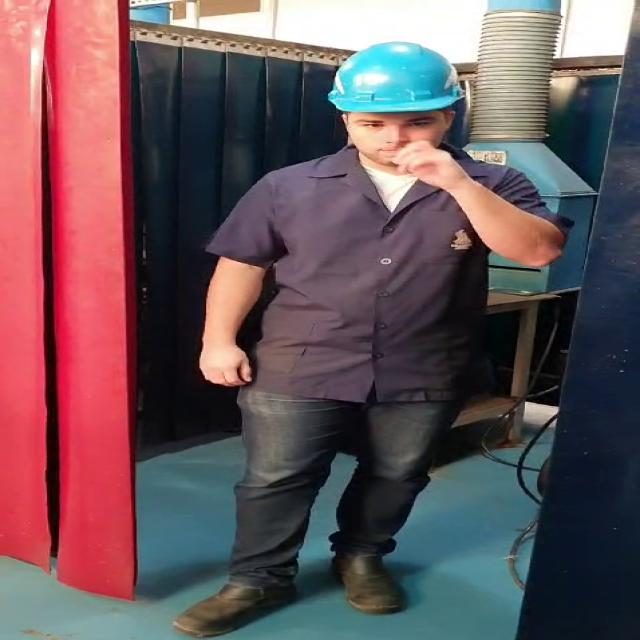sem_oculos: (323, 113, 462, 135)
